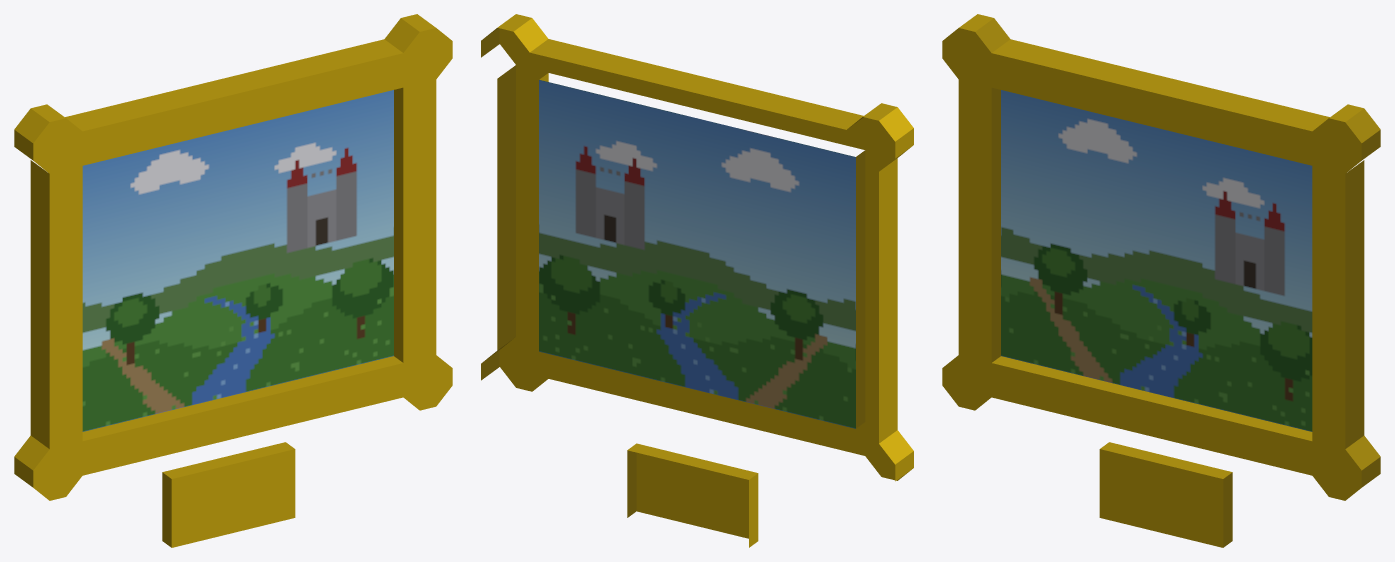
File: landscape.obj
3 views of the same model, side by side, from view 1: azimuth 30°, elevation 25°; view 2: azimuth 150°, elevation 25°; view 3: azimuth 330°, elevation 25° (orthographic).
Visible parts, largest first — view 1: Object Landscape 2026-09-21_11-28-14; view 2: Object Landscape 2026-09-21_11-28-14; view 3: Object Landscape 2026-09-21_11-28-14.
Boxes of the visible parts, x1,y1,x2,y2 form: Object Landscape 2026-09-21_11-28-14: (14,14,452,547); Object Landscape 2026-09-21_11-28-14: (481,14,913,547); Object Landscape 2026-09-21_11-28-14: (942,14,1380,547).
Size of the model in its own units: 102 by 108 by 8.
6 materials, 1 textured.
